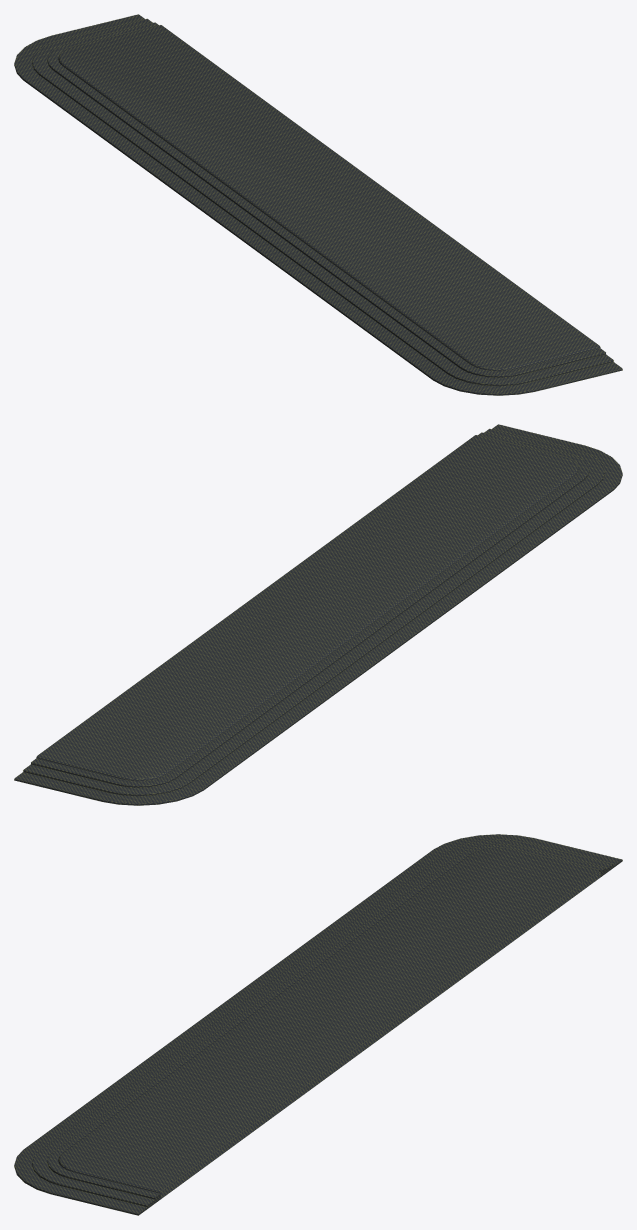
The model's file is Steps.glb.
The picture shows the model from 3 angles, top to bottom: view 1: azimuth 30°, elevation 25°; view 2: azimuth 150°, elevation 25°; view 3: azimuth 330°, elevation 25°; orthographic projection.
Parts seen in each view (by area): view 1: Steps; view 2: Steps; view 3: Steps.
Boxes of the visible parts, x1,y1,x2,y2 form: Steps: [14, 14, 622, 395]; Steps: [14, 424, 622, 805]; Steps: [14, 834, 622, 1215].
Size of what is drawn, in the model's own units: 12.01 by 0.6052 by 66.08.
Materials: 2 (2 with a texture image).
